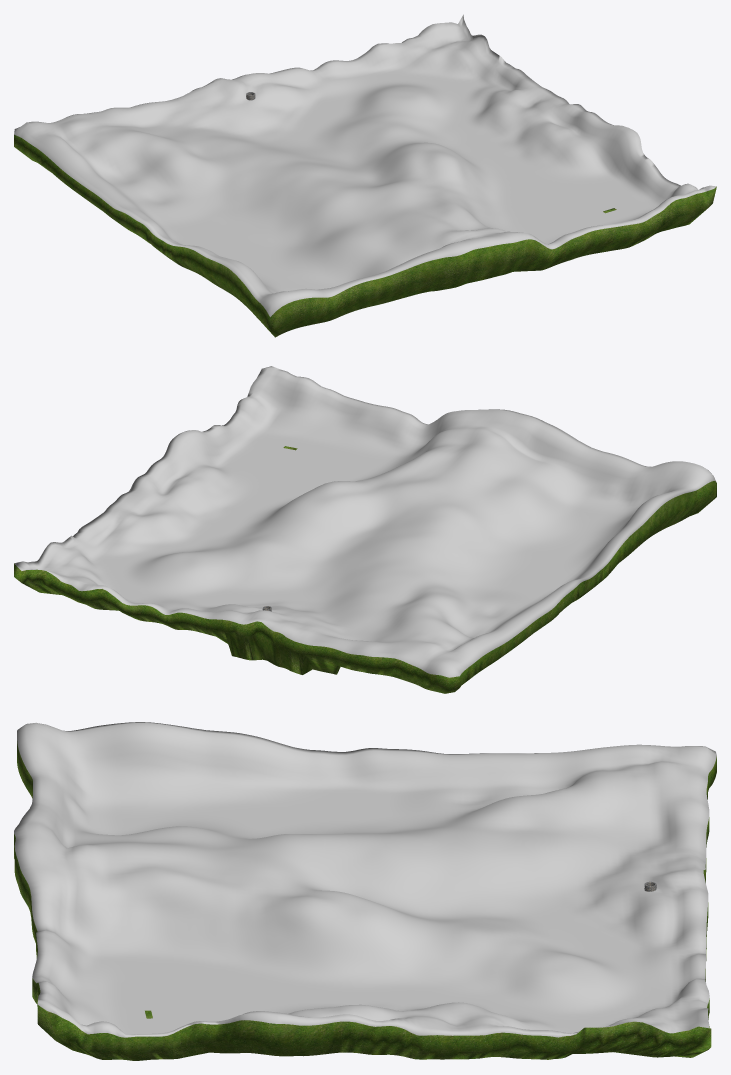
Rendered from cave.gltf.
3 renders of one model, top to bottom at view 1: azimuth 30°, elevation 25°; view 2: azimuth 150°, elevation 25°; view 3: azimuth 270°, elevation 25°, orthographic. The views are drawn at different scales.
Parts seen in each view (by area): view 1: Grid; view 2: Grid; view 3: Grid.
Boxes of the visible parts, x1=… form: Grid: x1=14, y1=14, x2=716, y2=337; Grid: x1=14, y1=366, x2=716, y2=693; Grid: x1=14, y1=722, x2=716, y2=1060.
Bounding box in the file's own units: 104 × 20.91 × 105.
